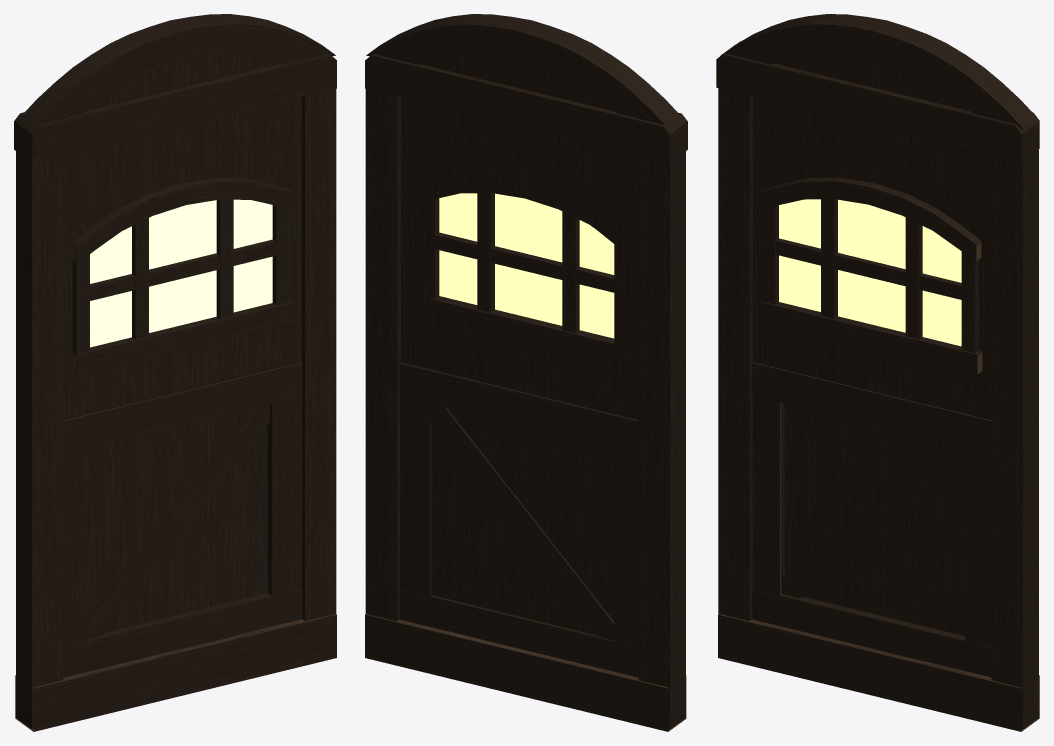
Rendered from Door_1_Round.gltf.
3 renders of one model, left to right at view 1: azimuth 30°, elevation 25°; view 2: azimuth 150°, elevation 25°; view 3: azimuth 330°, elevation 25°, orthographic.
Parts seen in each view (by area): view 1: Door_1_Round; view 2: Door_1_Round; view 3: Door_1_Round.
Part boxes in pixels (bbox=[...]): Door_1_Round: bbox=[14, 14, 336, 731]; Door_1_Round: bbox=[365, 14, 687, 731]; Door_1_Round: bbox=[716, 14, 1039, 731].
Size of the model in its own units: 1.12 by 2.32 by 0.1207.
Materials: 2 (1 with a texture image).
